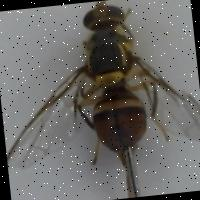Oriental-fruit-fly: (0, 0, 200, 177)
